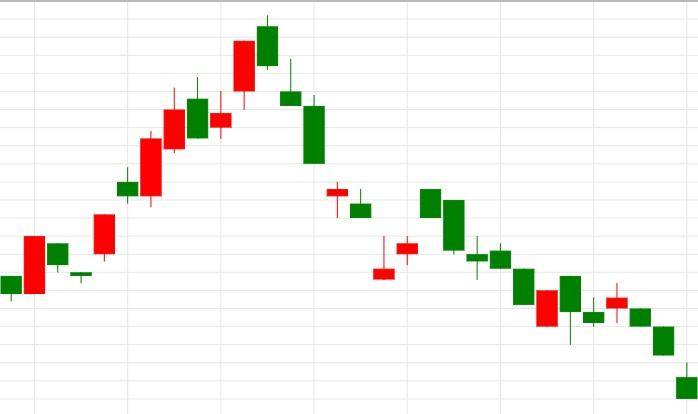three_black_crows_fall: (70, 16, 325, 284), (582, 282, 698, 400)
